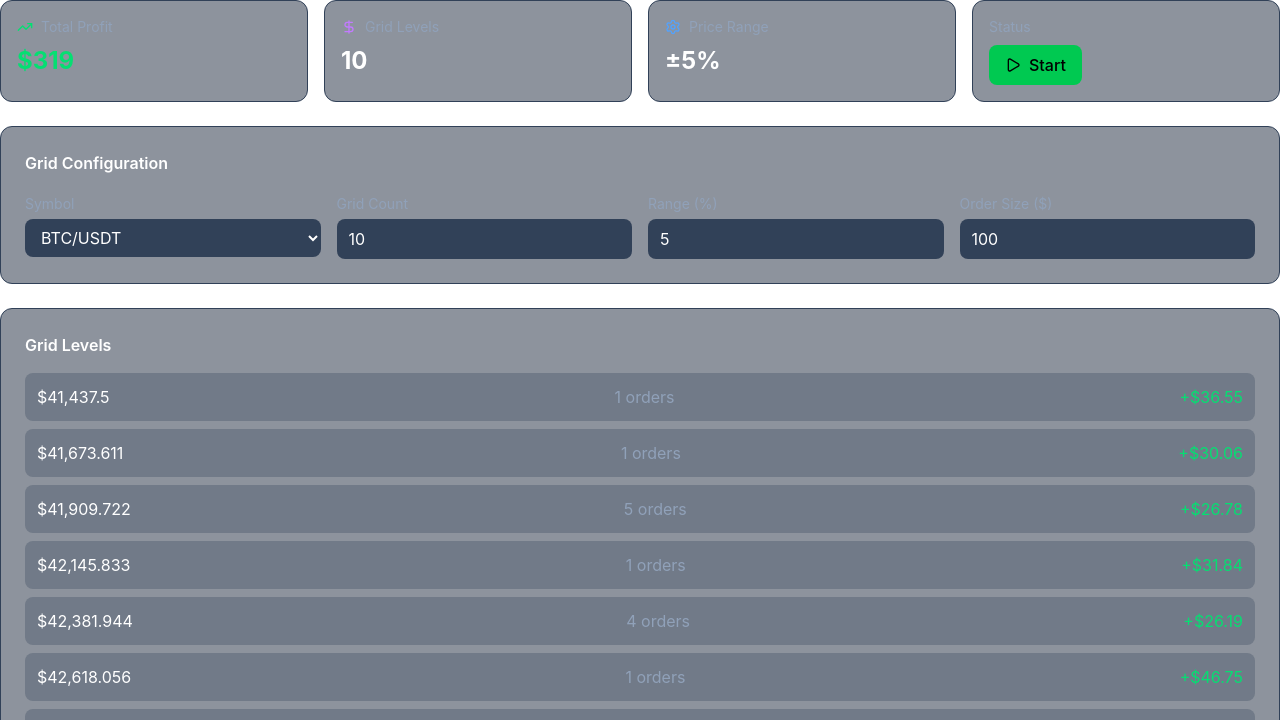
Test case: GridTradingBot › toggles to stop button when active
This screenshot has width=1280, height=720.
Click the button "Start". click: (1035,65)
box: [989,45,1082,85]
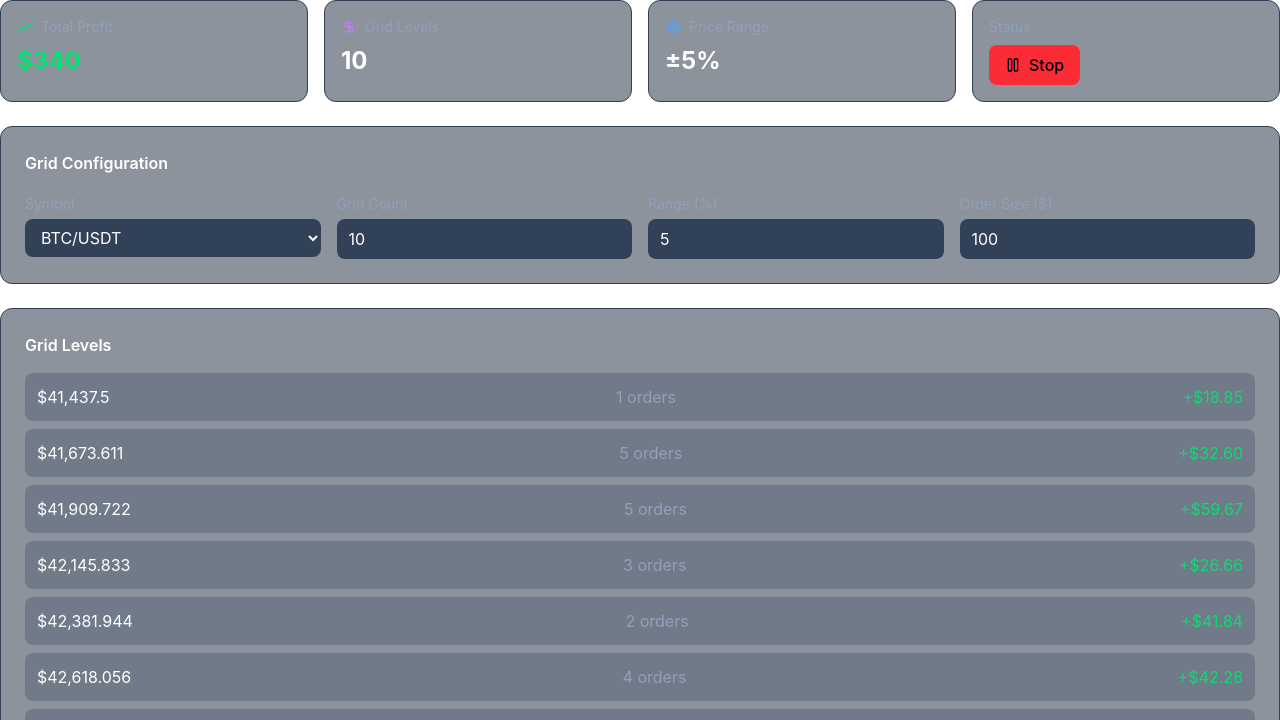
Result: the text "Stop" is shown at [989,45,1080,85]
